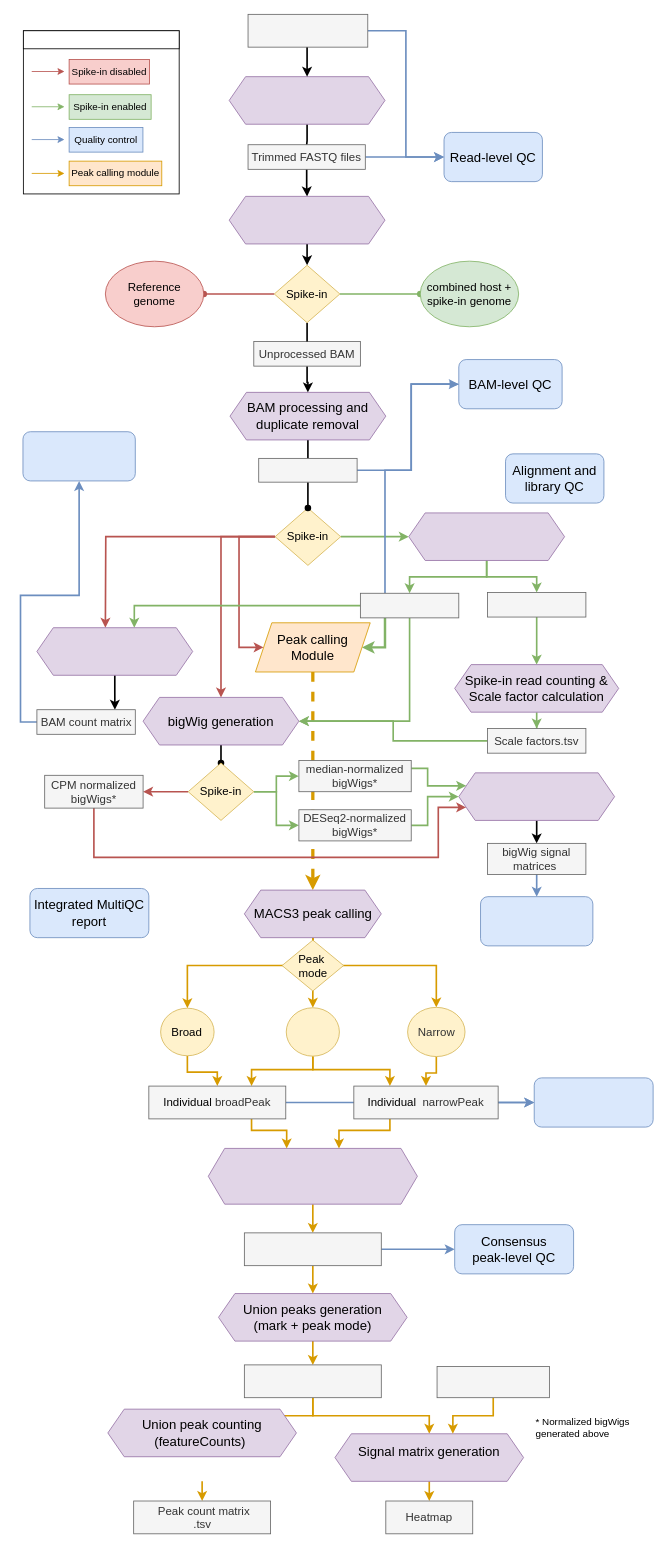
Image size: 667x1548. Some labels were removed from this diagram. The shapes that lost their labels are listed below. From the top down, each one's centre as x and y in pixels, then its label:
pixel 101 39: Color key
pixel 307 30: Raw FASTQ (Single- or Paired-end
pixel 306 100: Adapter trimming and quality filtering
pixel 306 220: Alignment (Bowtie2 or STAR)
pixel 78 456: BAM-level reproducibility QC
pixel 307 470: Processed BAM
pixel 486 536: Host / spike-in BAM separation
pixel 409 605: Host BAM
pixel 536 604: Spike-in BAM
pixel 114 651: Genome-wide BAM summary
pixel 536 796: Genome-wide normalized signal summary
pixel 536 921: Normalized signal reproducibility QC
pixel 312 1031: Both
pixel 593 1102: Individual peak-level QC
pixel 312 1176: Consensus peaks generation (condition + mark + peak mode)
pixel 312 1249: Consensus peak BED
pixel 312 1381: Union peak BED
pixel 492 1382: Normalized bigWigs*
